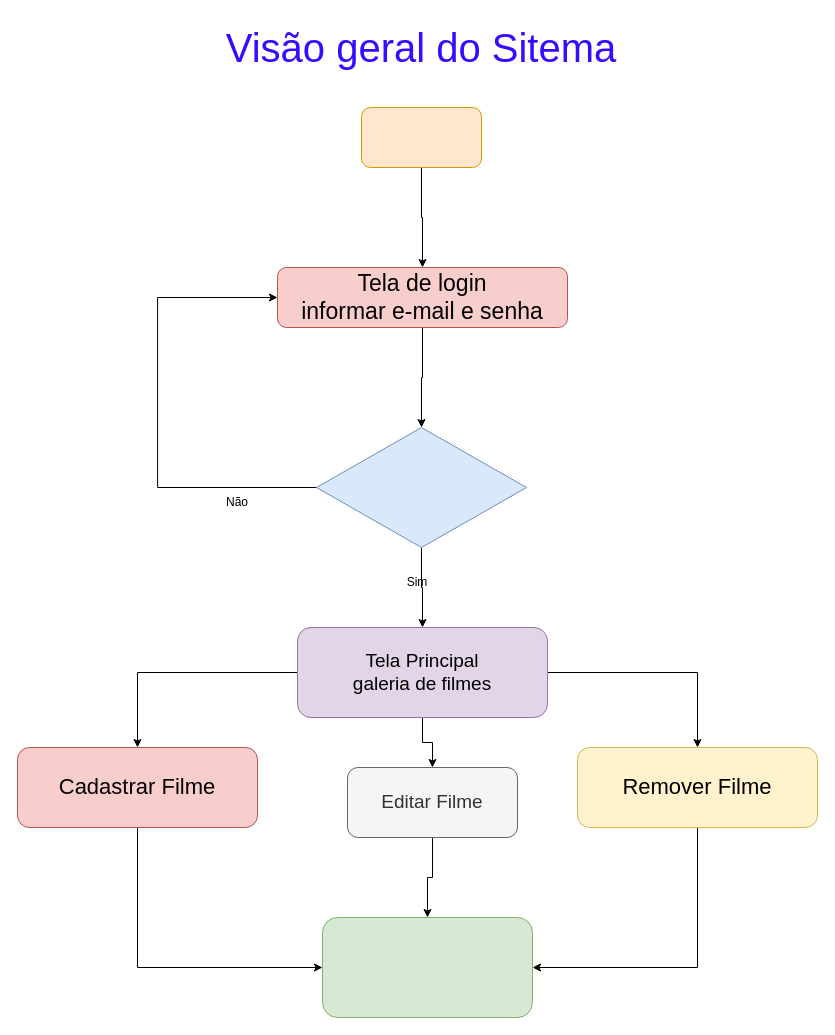
The diagram is 835 pixels wide and 1035 high, and some of its shapes have lost their labels. The centre of each missing label's shape, as x and y in pixels:
"Atualiza a Lista de Filmes Galeria de filmes" belongs at (427,967).
"Inicio" belongs at (421,137).
"Login Valido?" belongs at (421,487).
